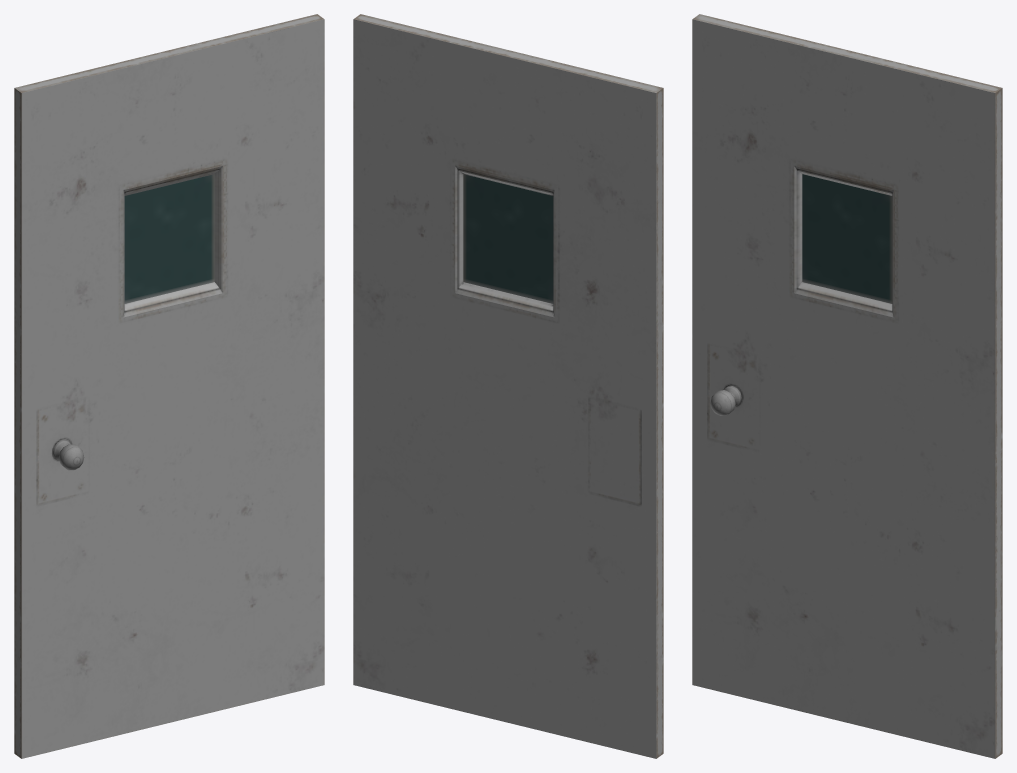
The model's file is door_edited.glb.
3 renders of one model, left to right at view 1: azimuth 30°, elevation 25°; view 2: azimuth 150°, elevation 25°; view 3: azimuth 330°, elevation 25°, orthographic.
Visible parts, largest first — view 1: Cube; view 2: Cube; view 3: Cube.
Part boxes in pixels (bbox=[...]): Cube: bbox=[14, 14, 324, 758]; Cube: bbox=[353, 14, 663, 758]; Cube: bbox=[692, 14, 1002, 758].
Bounding box in the file's own units: 0.9524 × 2 × 0.123.
Materials: 1 (1 with a texture image).
